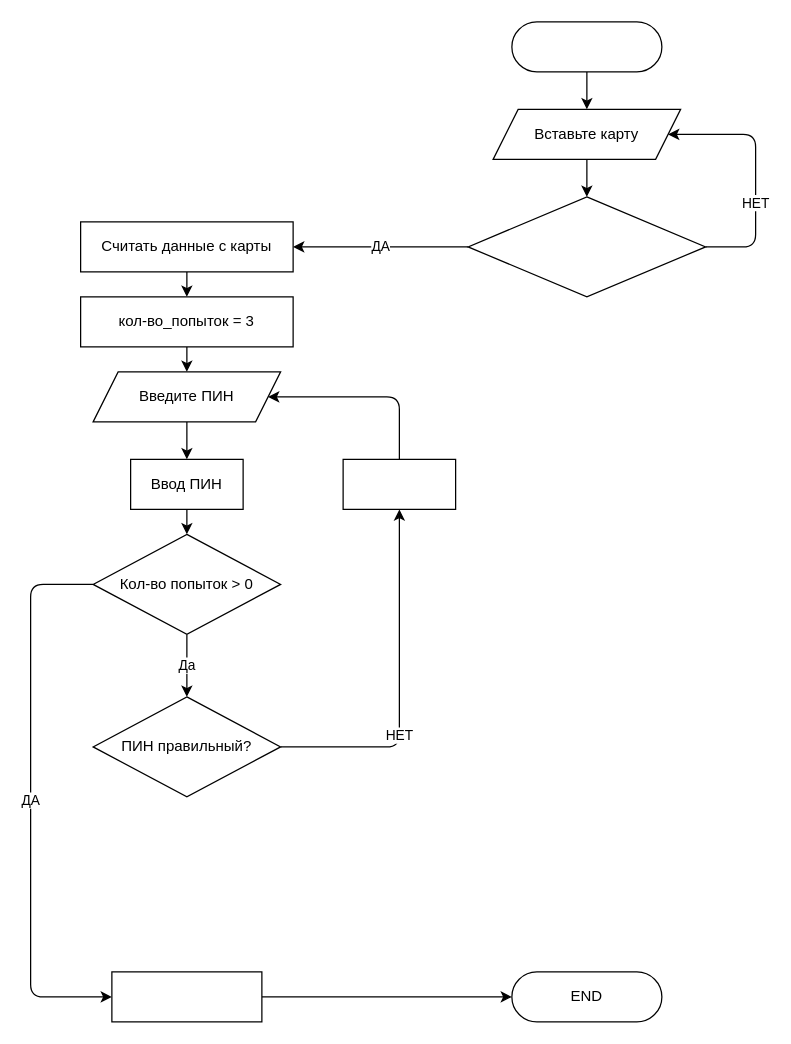
Some shapes in this 791 by 1044 pixel diagram are drawn without their labels. The shapes that lost their labels are listed below. From the top down, each one's box as (x1, y1, x2, y2) in pixels, then its label:
(511, 21, 662, 72): START
(467, 196, 706, 297): Клиент вставил карту?
(342, 458, 456, 509): - - кол-во попыток
(111, 971, 262, 1022): Заблокировать карту
